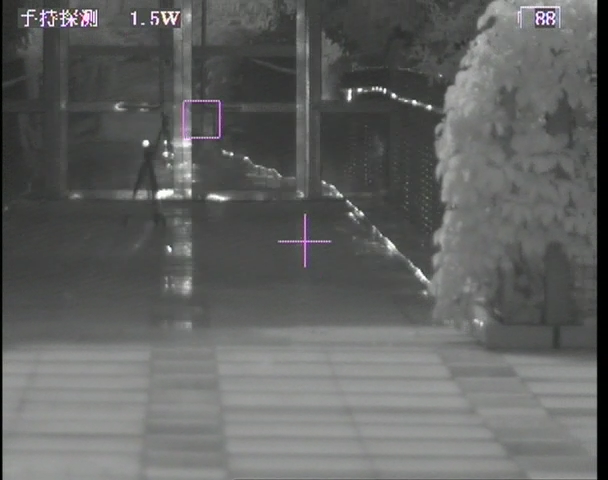my: (142, 137, 151, 149)
